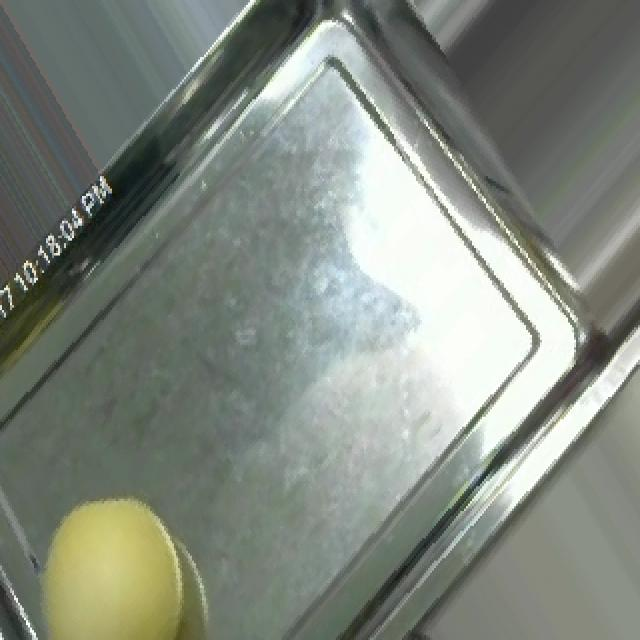Fruit: (2, 464, 224, 640)
